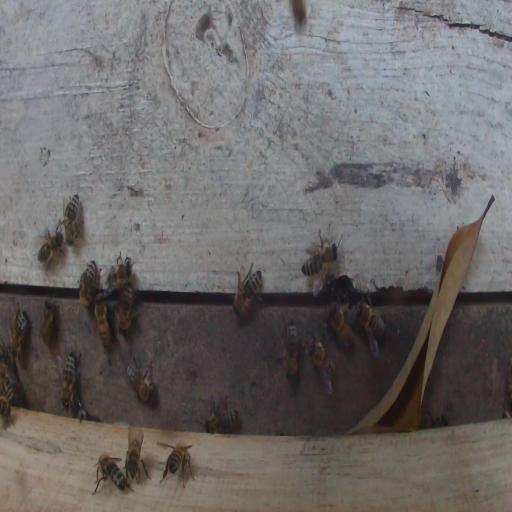bee: (355, 296, 386, 357), (301, 229, 339, 277), (307, 336, 338, 394), (233, 263, 262, 321), (160, 442, 194, 489), (93, 452, 128, 494), (127, 355, 157, 403), (329, 304, 355, 352), (283, 319, 300, 383), (37, 227, 64, 267), (61, 350, 79, 410), (94, 291, 111, 354), (10, 304, 29, 359), (38, 297, 59, 346), (79, 259, 99, 309), (118, 283, 133, 336), (64, 195, 79, 247), (2, 374, 25, 407), (107, 261, 133, 290), (206, 412, 238, 435), (126, 436, 141, 479), (291, 0, 307, 28), (1, 393, 14, 427)
